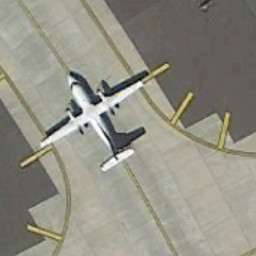Airplane: (30, 61, 150, 180)
